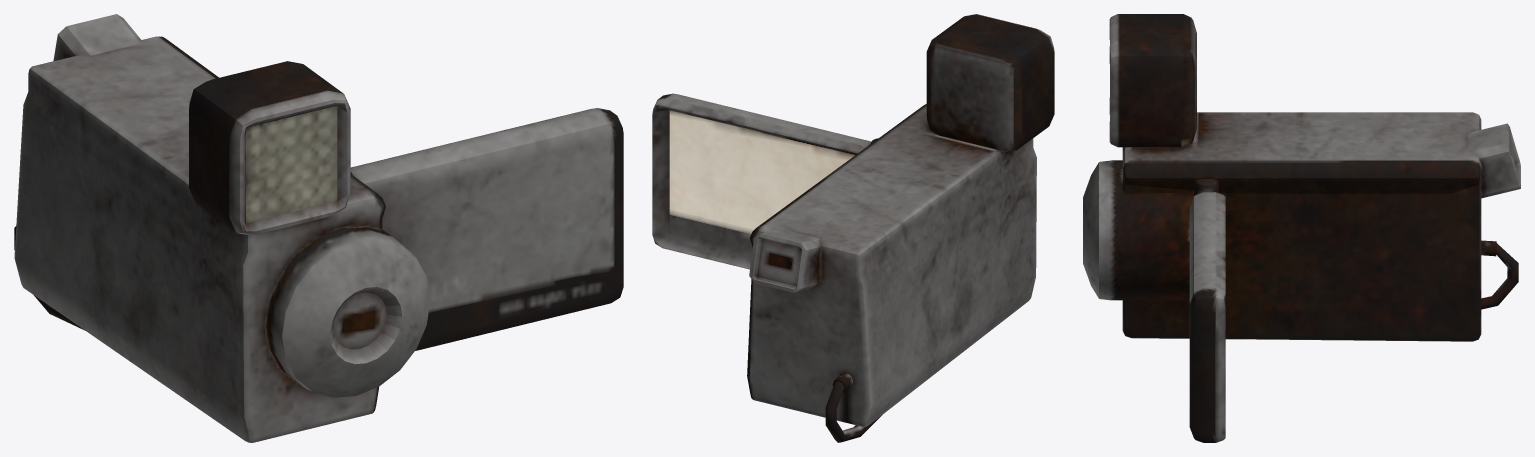
The model's file is Low_Poly_Outlast_Camera.glb.
The picture shows the model from 3 angles, left to right: view 1: azimuth 30°, elevation 25°; view 2: azimuth 150°, elevation 25°; view 3: azimuth 270°, elevation 25°; orthographic projection. The views are drawn at different scales.
Parts seen in each view (by area): view 1: camera_tri_lambert4_0; view 2: camera_tri_lambert4_0; view 3: camera_tri_lambert4_0.
Boxes of the visible parts, bbox=[...] form: camera_tri_lambert4_0: bbox=[14, 14, 623, 442]; camera_tri_lambert4_0: bbox=[652, 14, 1054, 442]; camera_tri_lambert4_0: bbox=[1083, 14, 1520, 442].
Bounding box in the file's own units: 0.4377 × 0.3416 × 0.4619.
1 material, 1 textured.
